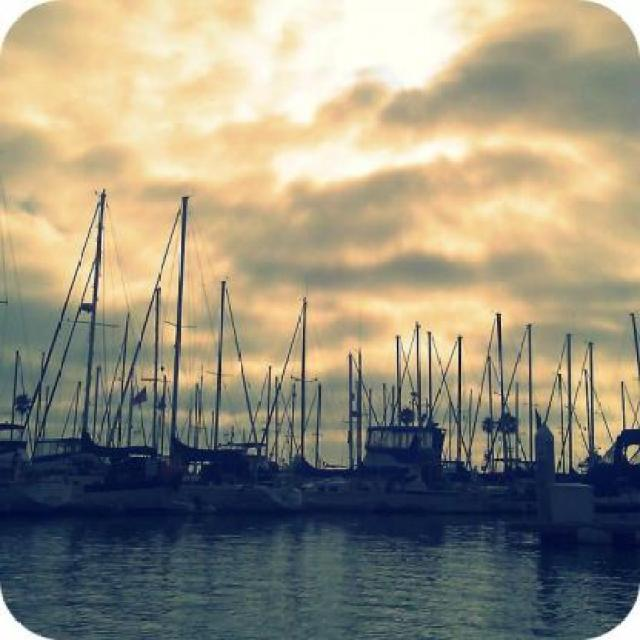ship: (16, 187, 187, 513), (167, 276, 302, 512), (302, 423, 488, 514), (0, 416, 88, 515)
